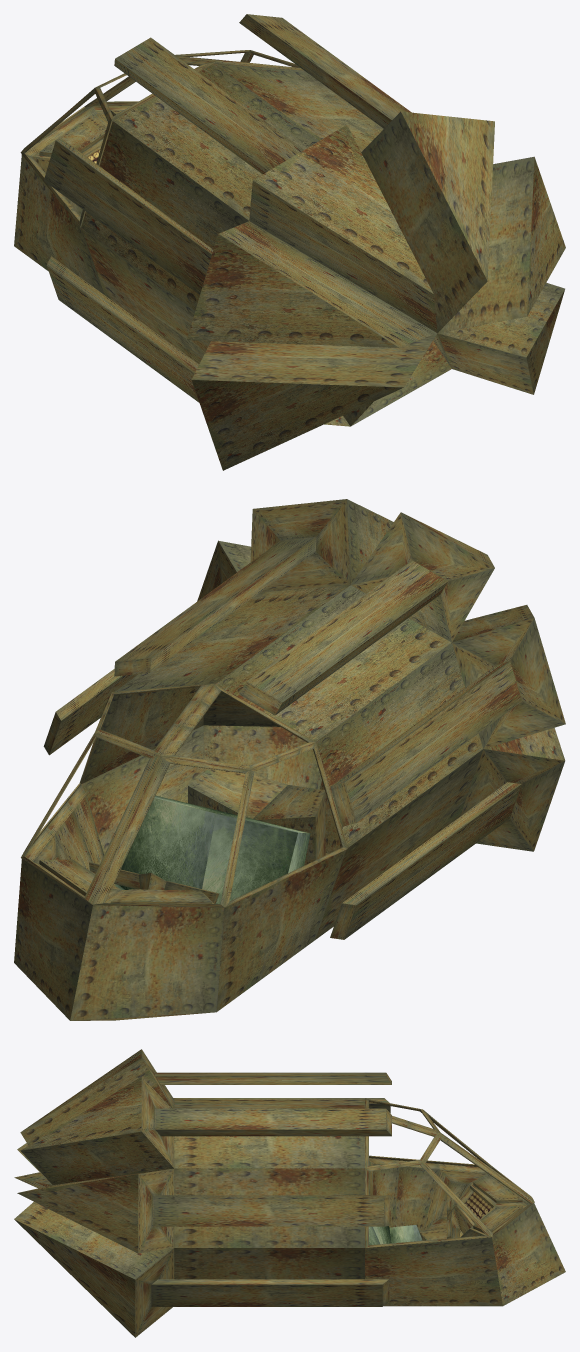
3 views of the same model, one above another, from view 1: azimuth 30°, elevation 25°; view 2: azimuth 150°, elevation 25°; view 3: azimuth 270°, elevation 25° (orthographic). The views are drawn at different scales.
Parts seen in each view (by area): view 1: ship; view 2: ship; view 3: ship.
Boxes of the visible parts, x1,y1,x2,y2 form: ship: (14, 14, 565, 470); ship: (14, 499, 565, 1020); ship: (14, 1049, 565, 1337).
Bounding box in the file's own units: 302 × 247 × 544.
3 materials, 3 textured.
